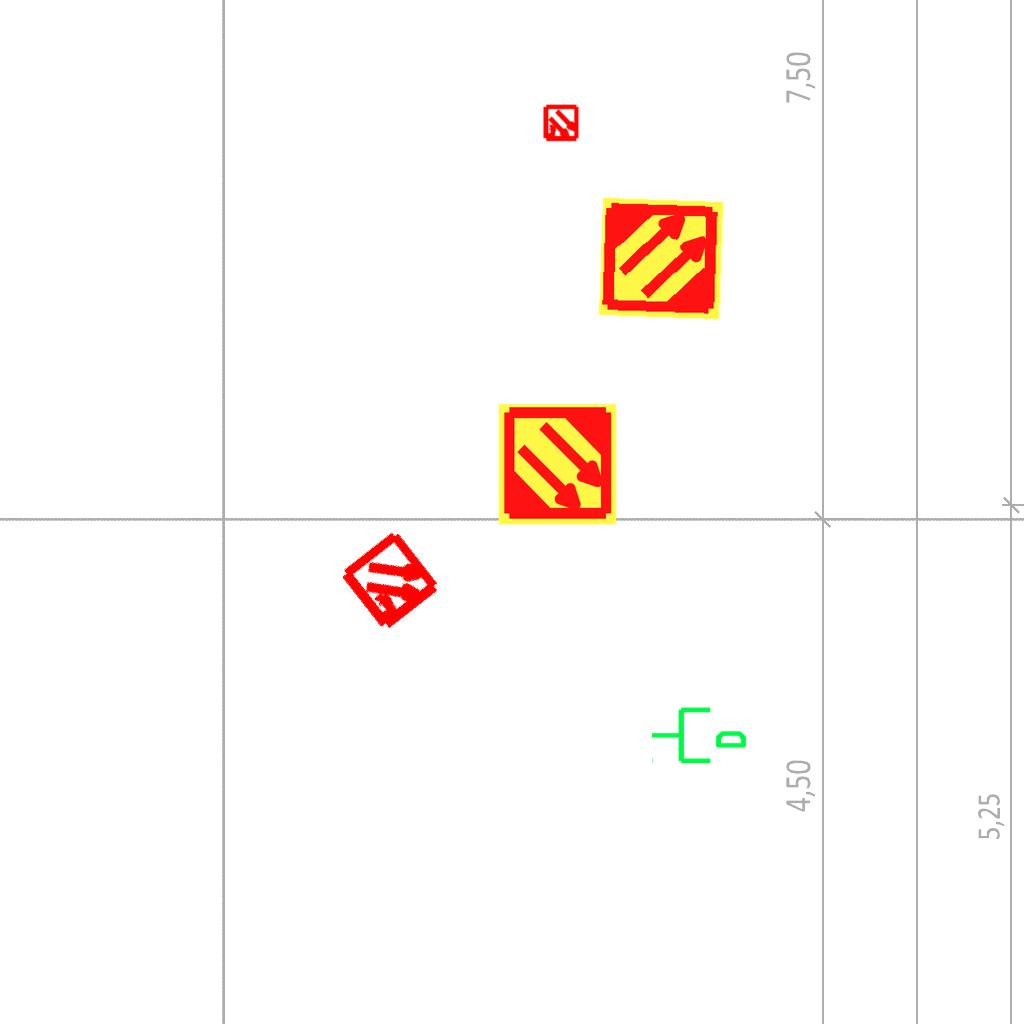ASR_Ansaugrauchmelder: (596, 193, 727, 324), (495, 402, 620, 527)
Datenanschluss_einfach: (649, 699, 749, 768)
OT_Multisensormelder_(Kombination_RMO_WMD): (312, 503, 471, 662), (533, 96, 589, 152)
